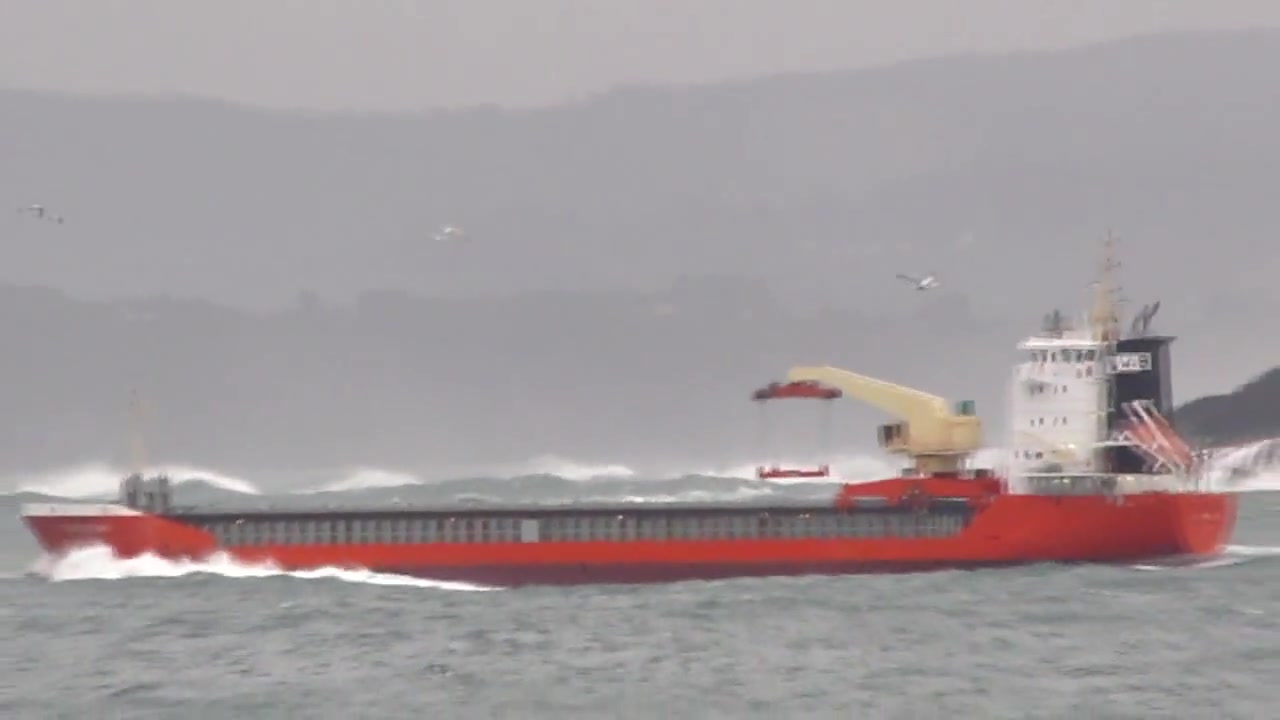boat: (18, 223, 1241, 575)
